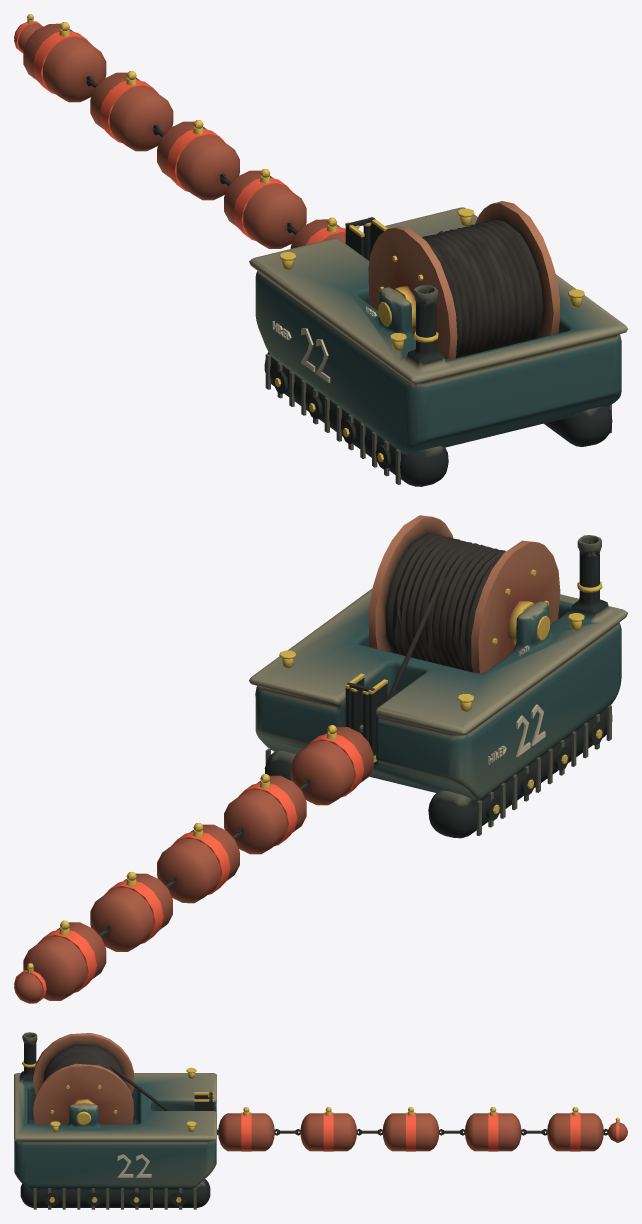
File: enemy_boom_tender.glb
3 renders of one model, top to bottom at view 1: azimuth 30°, elevation 25°; view 2: azimuth 150°, elevation 25°; view 3: azimuth 270°, elevation 25°, orthographic. The views are drawn at different scales.
Parts seen in each view (by area): view 1: TenderHull, TenderReel, BoomFloat3, BoomFloat4, BoomFloat2, BoomFloat1, TenderFairlead, BoomFloat0; view 2: TenderHull, TenderReel, BoomFloat0, BoomFloat2, BoomFloat1, BoomFloat3, BoomFloat4, TenderFairlead, BoomBuoy; view 3: TenderHull, TenderReel, BoomFloat3, BoomFloat1, BoomFloat2, BoomFloat4, BoomFloat0, TenderFairlead, BoomBuoy.
Boxes of the visible parts, left/top/right/bottom form: TenderHull: left=249, top=207, right=627, bottom=486; TenderReel: left=368, top=201, right=559, bottom=359; BoomFloat3: left=90, top=71, right=173, bottom=151; BoomFloat4: left=23, top=22, right=106, bottom=102; BoomFloat2: left=157, top=120, right=239, bottom=200; BoomFloat1: left=224, top=169, right=306, bottom=248; TenderFairlead: left=345, top=216, right=387, bottom=260; BoomFloat0: left=290, top=217, right=345, bottom=248; TenderHull: left=249, top=535, right=627, bottom=838; TenderReel: left=368, top=515, right=560, bottom=673; BoomFloat0: left=290, top=725, right=373, bottom=805; BoomFloat2: left=157, top=823, right=239, bottom=903; BoomFloat1: left=224, top=774, right=306, bottom=854; BoomFloat3: left=90, top=871, right=172, bottom=951; BoomFloat4: left=23, top=920, right=106, bottom=1000; TenderFairlead: left=345, top=673, right=387, bottom=762; BoomBuoy: left=14, top=963, right=46, bottom=1003; TenderHull: left=14, top=1032, right=216, bottom=1209; TenderReel: left=33, top=1033, right=134, bottom=1124; BoomFloat3: left=452, top=1107, right=534, bottom=1151; BoomFloat1: left=287, top=1107, right=369, bottom=1151; BoomFloat2: left=370, top=1107, right=451, bottom=1151; BoomFloat4: left=534, top=1107, right=608, bottom=1151; BoomFloat0: left=217, top=1107, right=287, bottom=1151; TenderFairlead: left=194, top=1092, right=217, bottom=1133; BoomBuoy: left=604, top=1117, right=627, bottom=1142.
Size of the model in its own units: 2.48 by 2.29 by 9.7.
